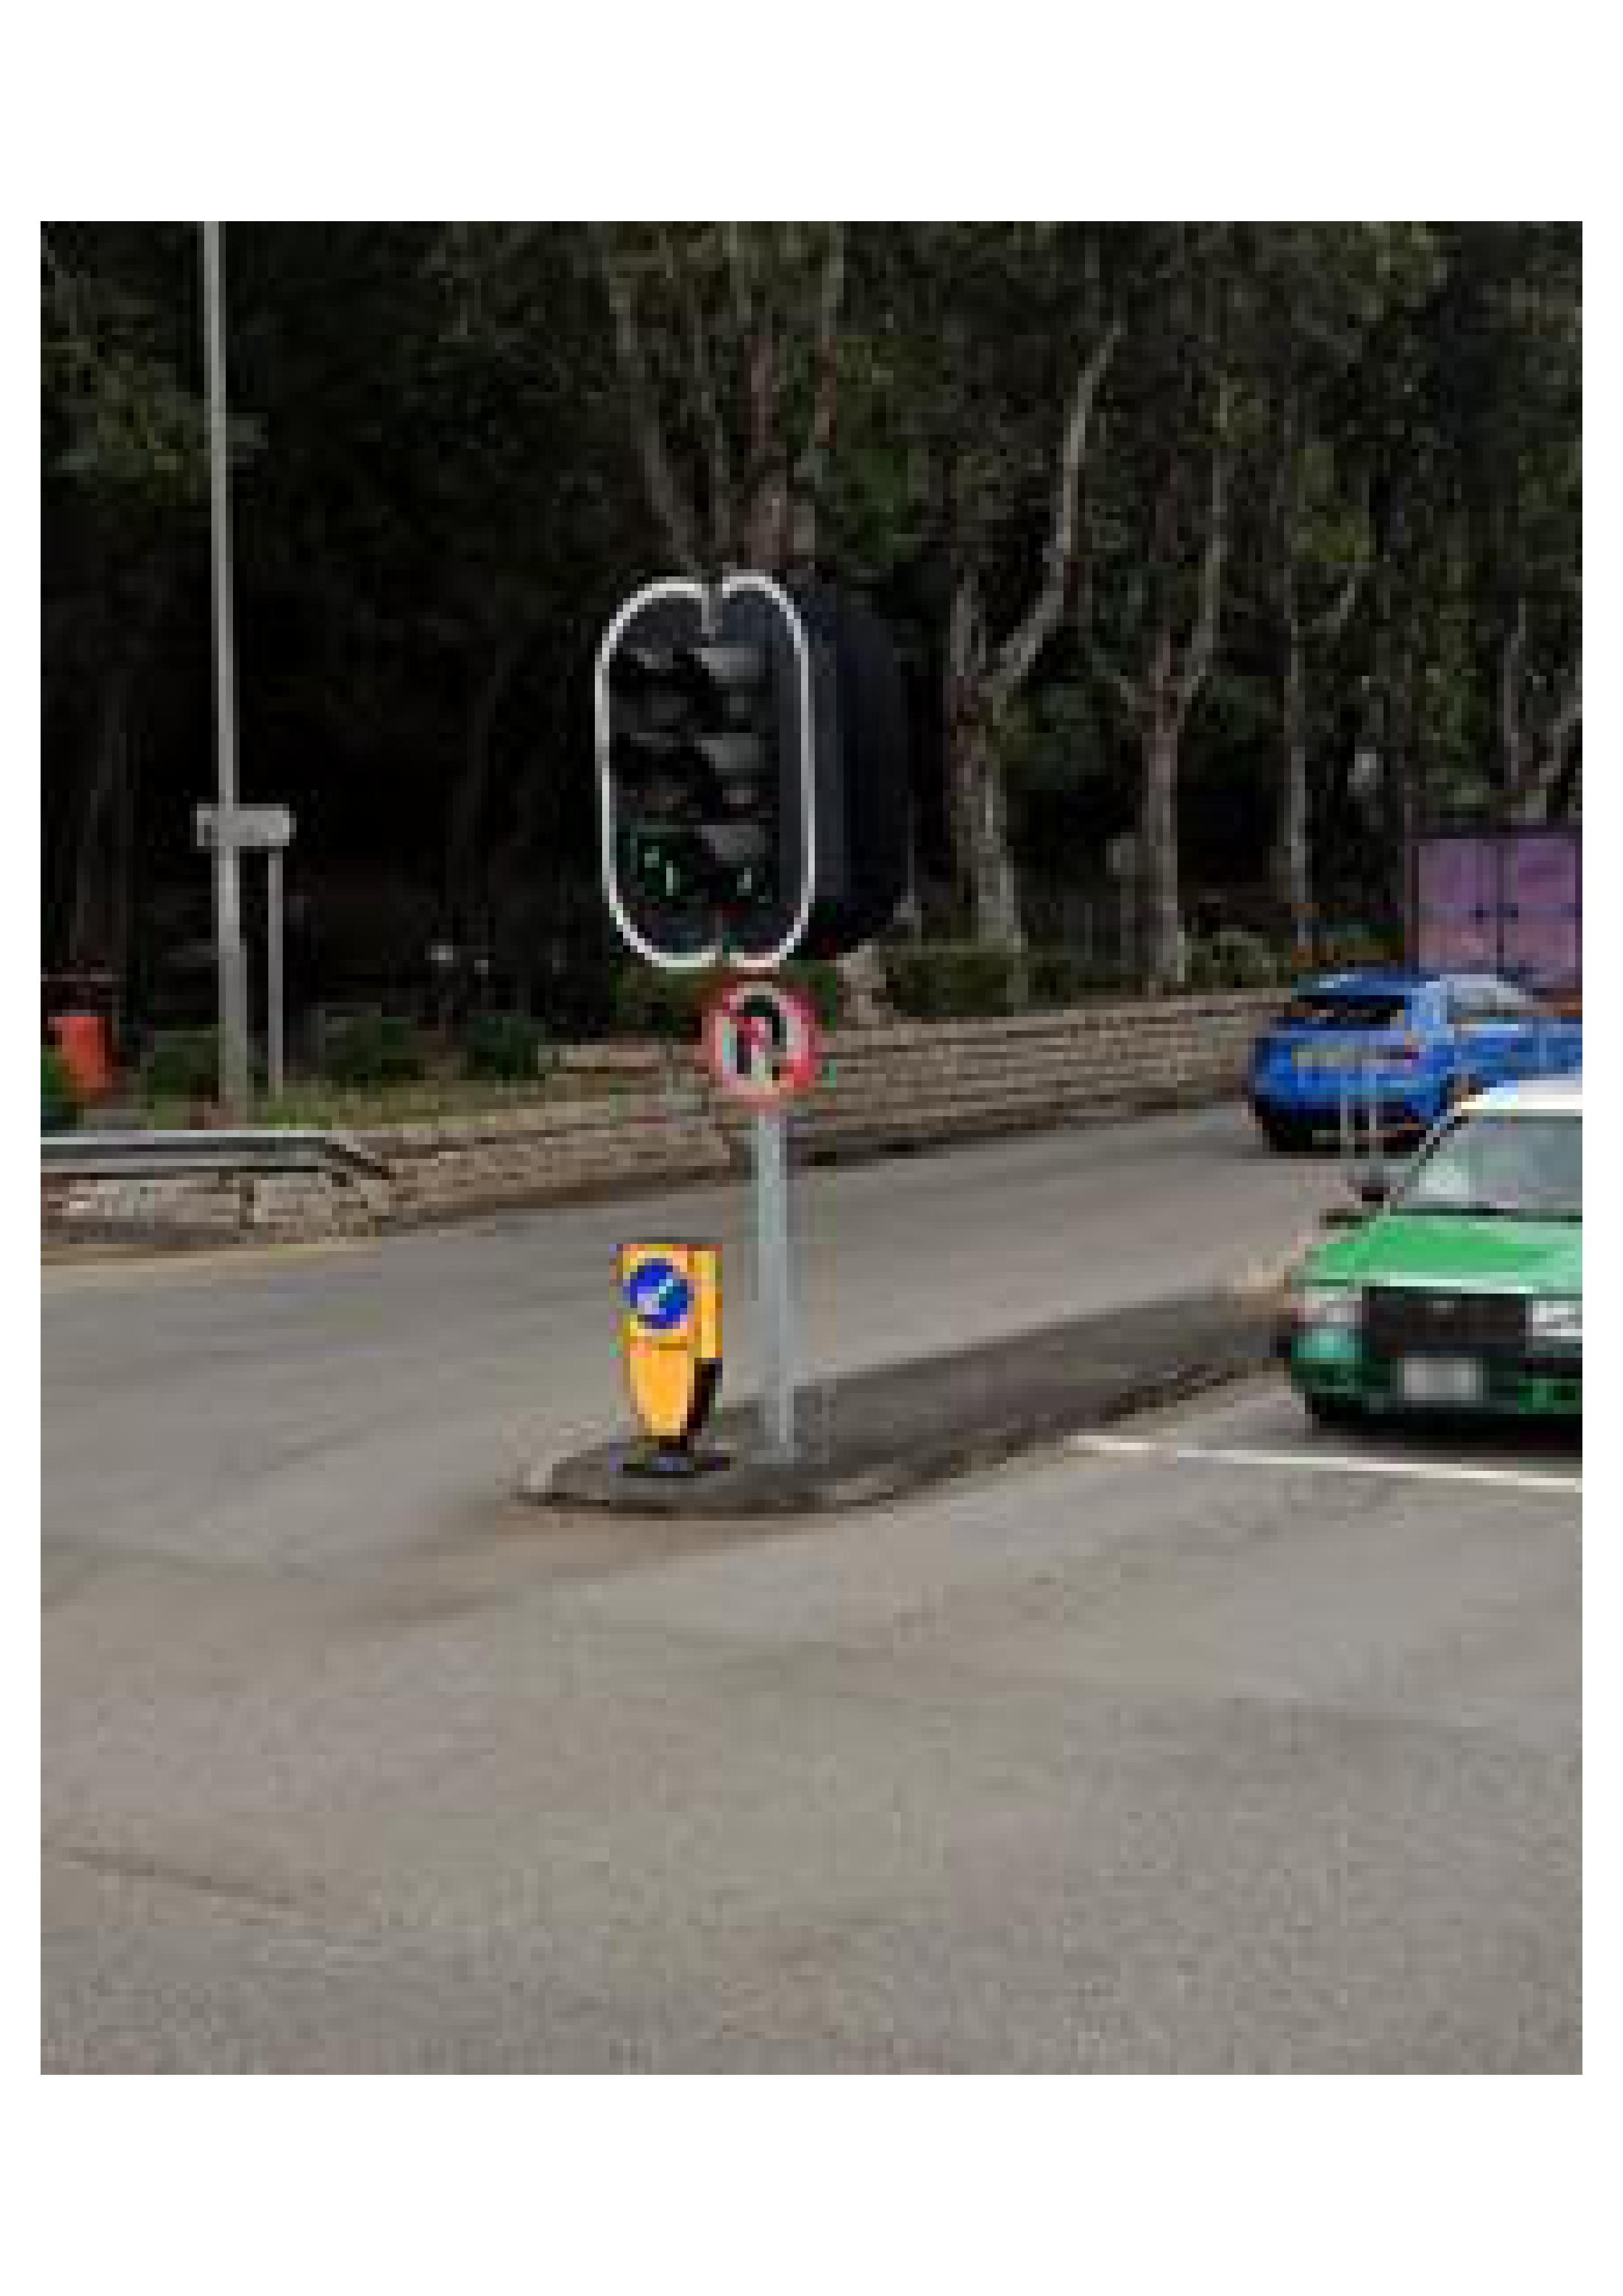No Uturn: (690, 978, 827, 1106)
